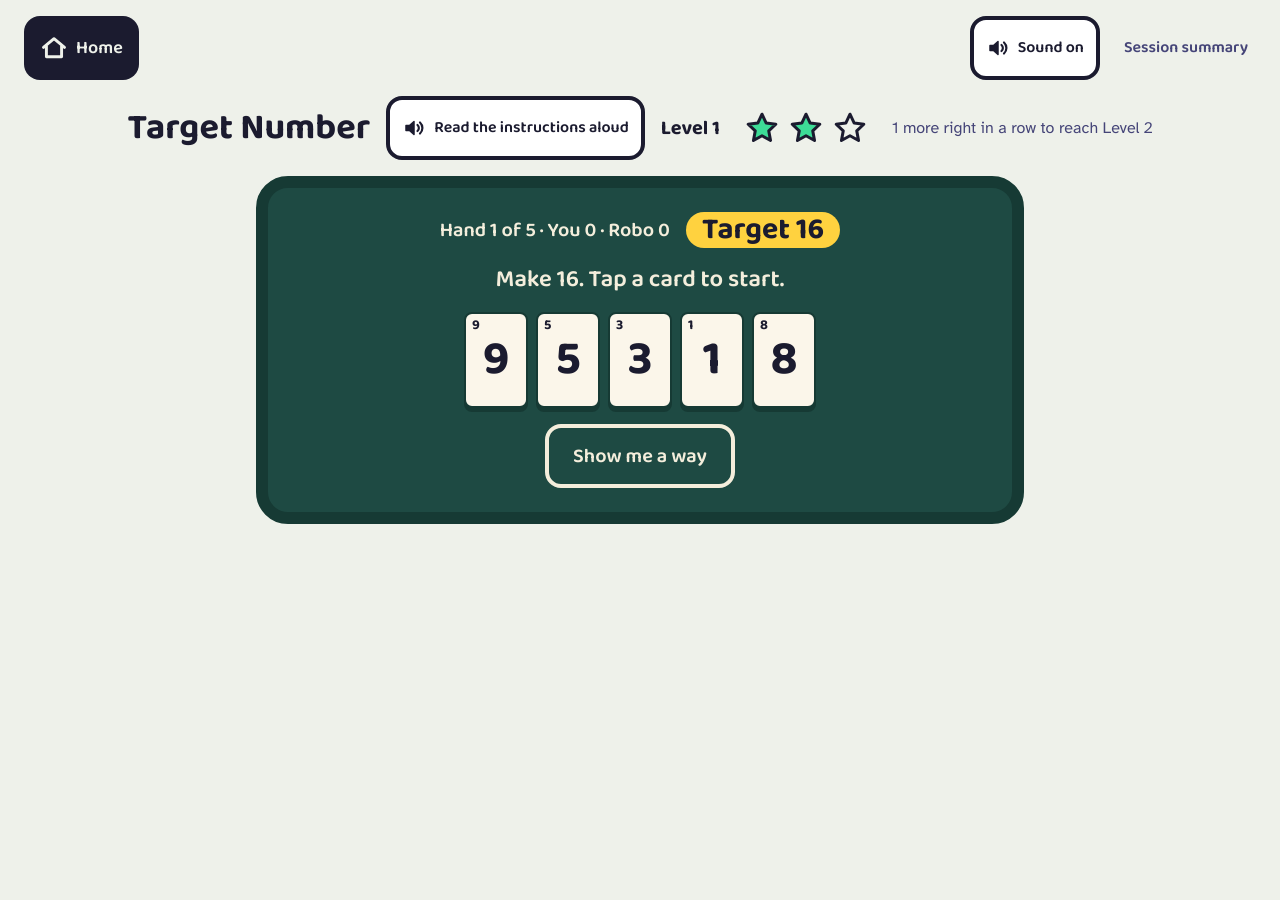
Test case: Start over puts the cards back, and Show me a way ends the hand without a point
The width and height of the screenshot is (1280, 900).
Click the button named "Card 9" at (496, 360), box [464,312,528,408]
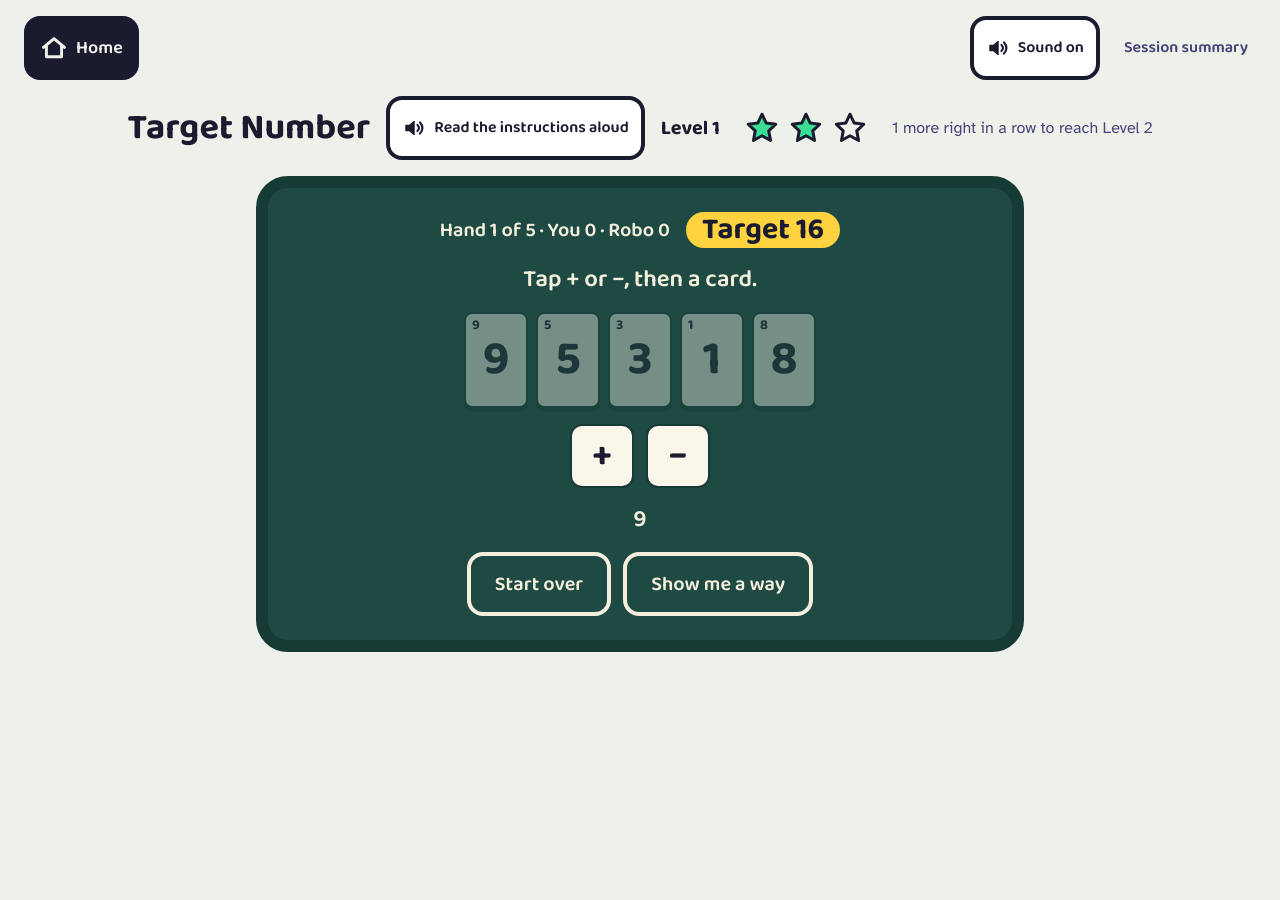
Click the button "Start over" at (539, 584), box [467,552,611,616]
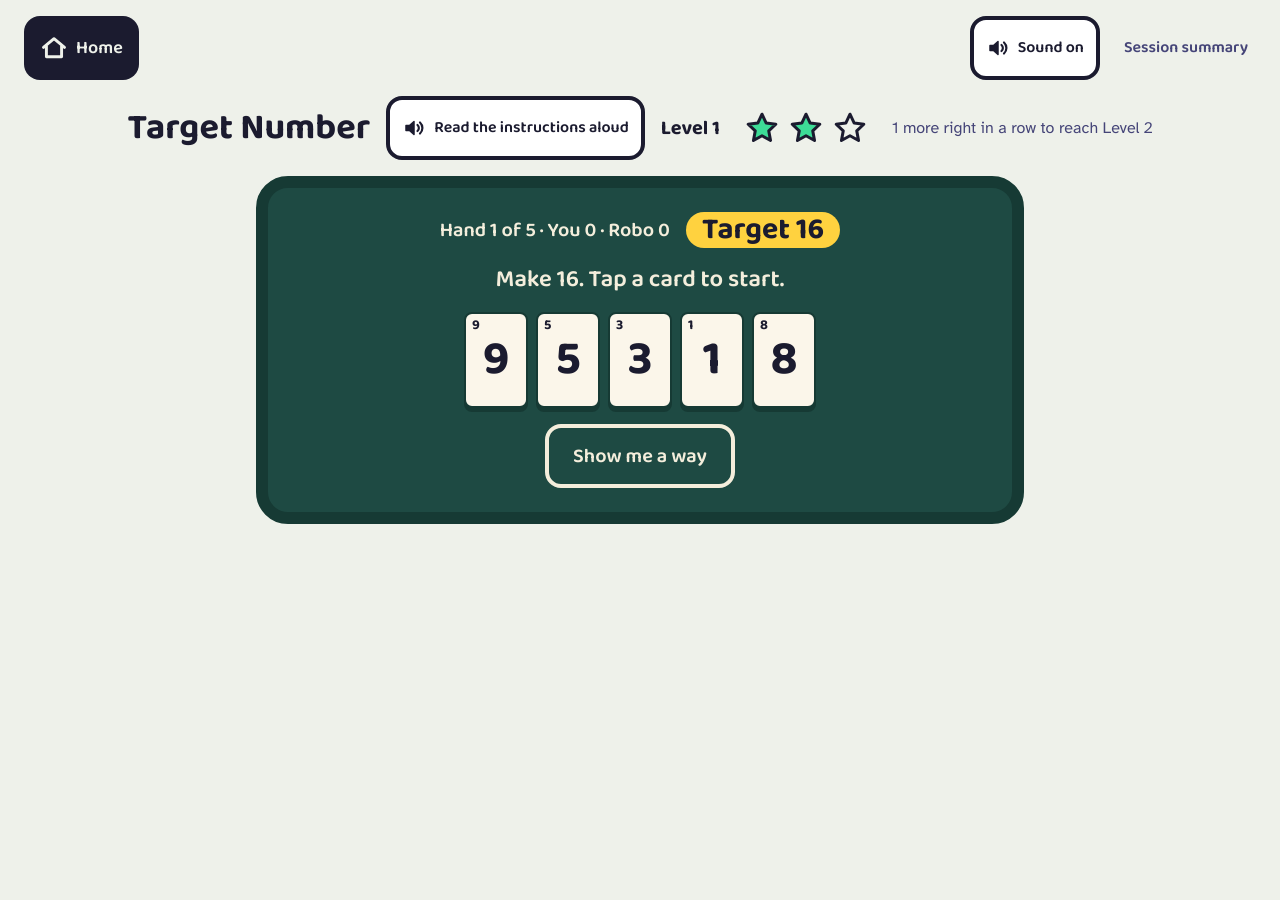
Expected: the text "Make 16. Tap a card to start." is shown, [496,264,784,296]
Click the button "Show me a way" at (640, 456), box [545,424,735,488]
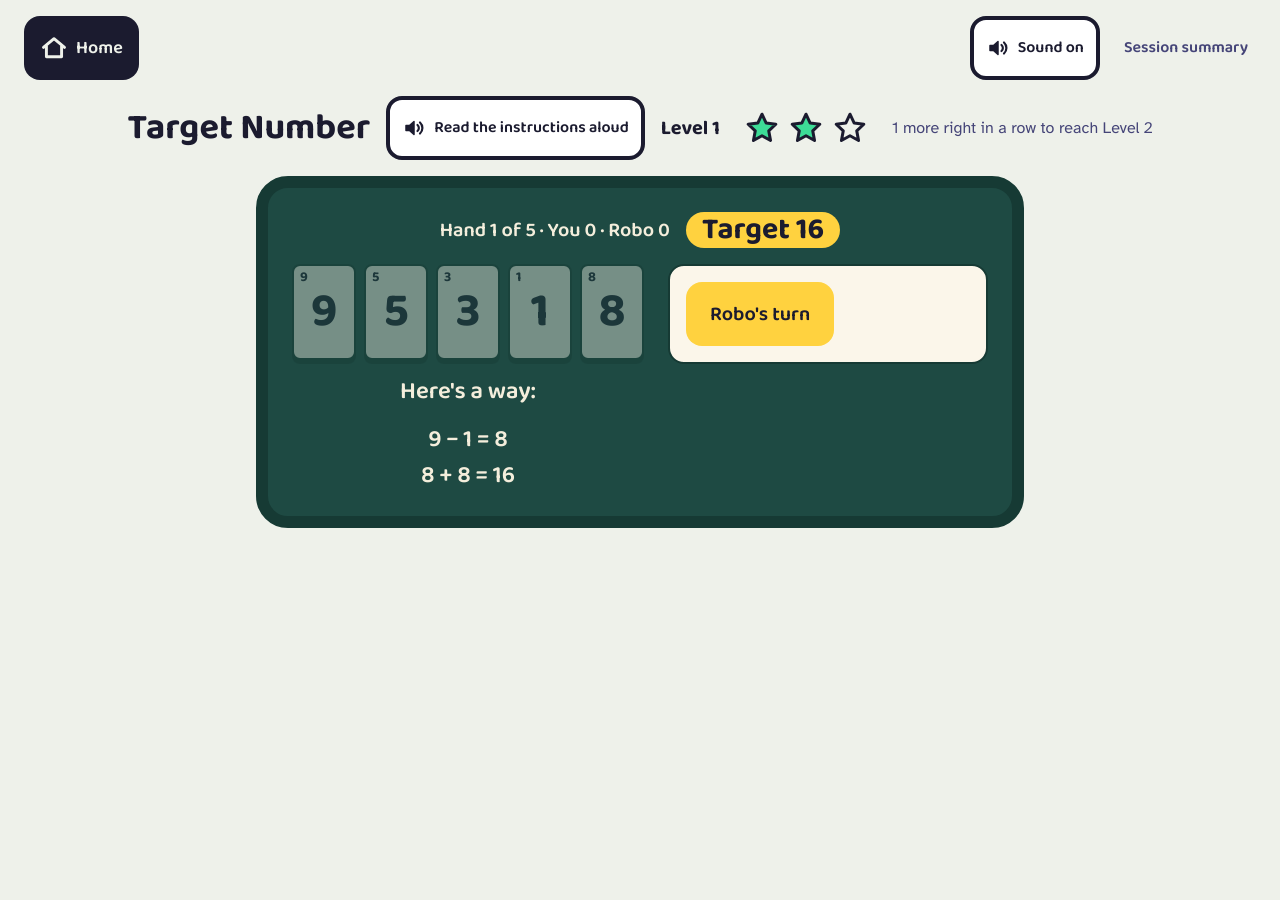
Expected: the text "Here's a way:" is shown, [400,376,536,408]
Expected: the list item "8 + 8 = 16" is shown, [421,460,515,492]
